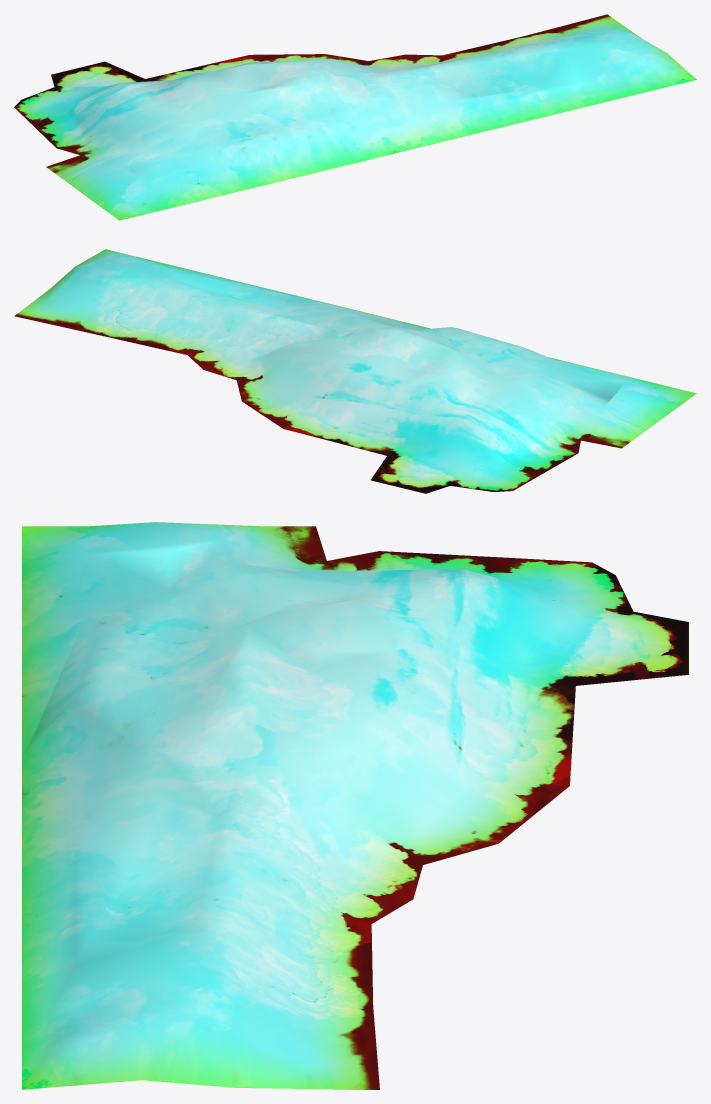
The model's file is Mesh_QuantumMetaCloud_7.FBX.
The picture shows the model from 3 angles, top to bottom: view 1: azimuth 30°, elevation 25°; view 2: azimuth 150°, elevation 25°; view 3: azimuth 270°, elevation 25°; orthographic projection. The views are drawn at different scales.
Visible parts, largest first — view 1: Mesh_QuantumMetaCloud_7; view 2: Mesh_QuantumMetaCloud_7; view 3: Mesh_QuantumMetaCloud_7.
Boxes of the visible parts, left/top/right/bottom form: Mesh_QuantumMetaCloud_7: left=14, top=14, right=696, bottom=220; Mesh_QuantumMetaCloud_7: left=14, top=249, right=696, bottom=493; Mesh_QuantumMetaCloud_7: left=22, top=522, right=688, bottom=1089.
Bounding box in the file's own units: 1000 × 500 × 74.79.
